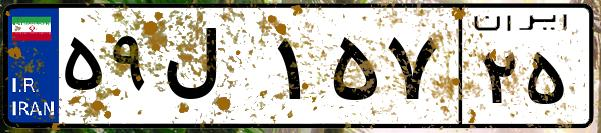1: (270, 28, 330, 110)
2: (475, 38, 525, 113)
5: (330, 28, 385, 110), (57, 26, 110, 100), (525, 38, 570, 115)
7: (385, 28, 445, 110)
9: (110, 28, 158, 98)
ل: (158, 20, 270, 120)
